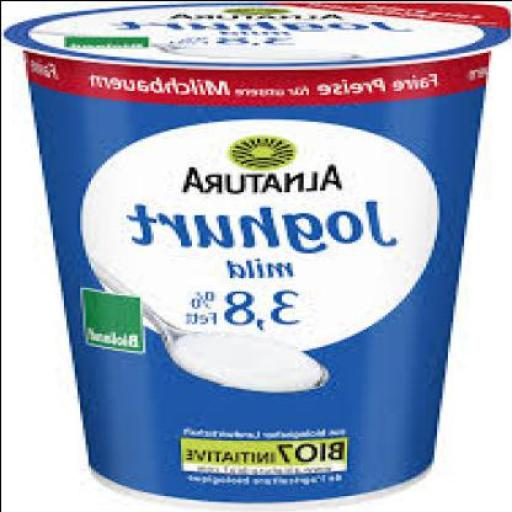plastic: (5, 1, 511, 500)
